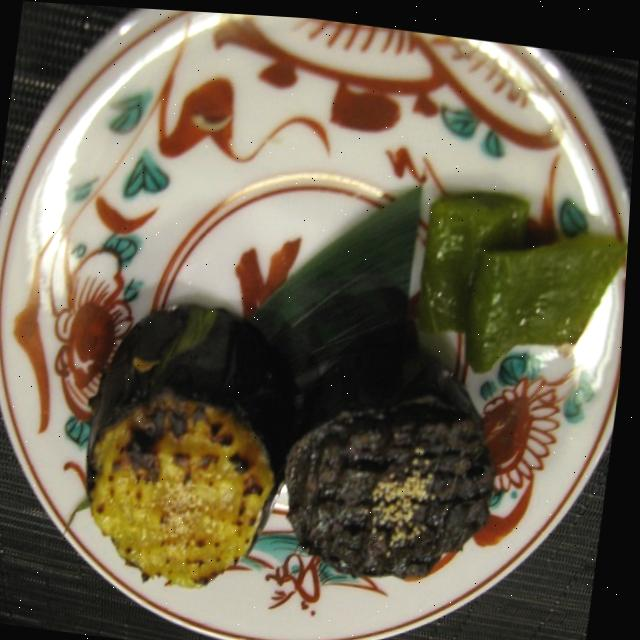鸡蛋料理: (25, 278, 546, 640)
